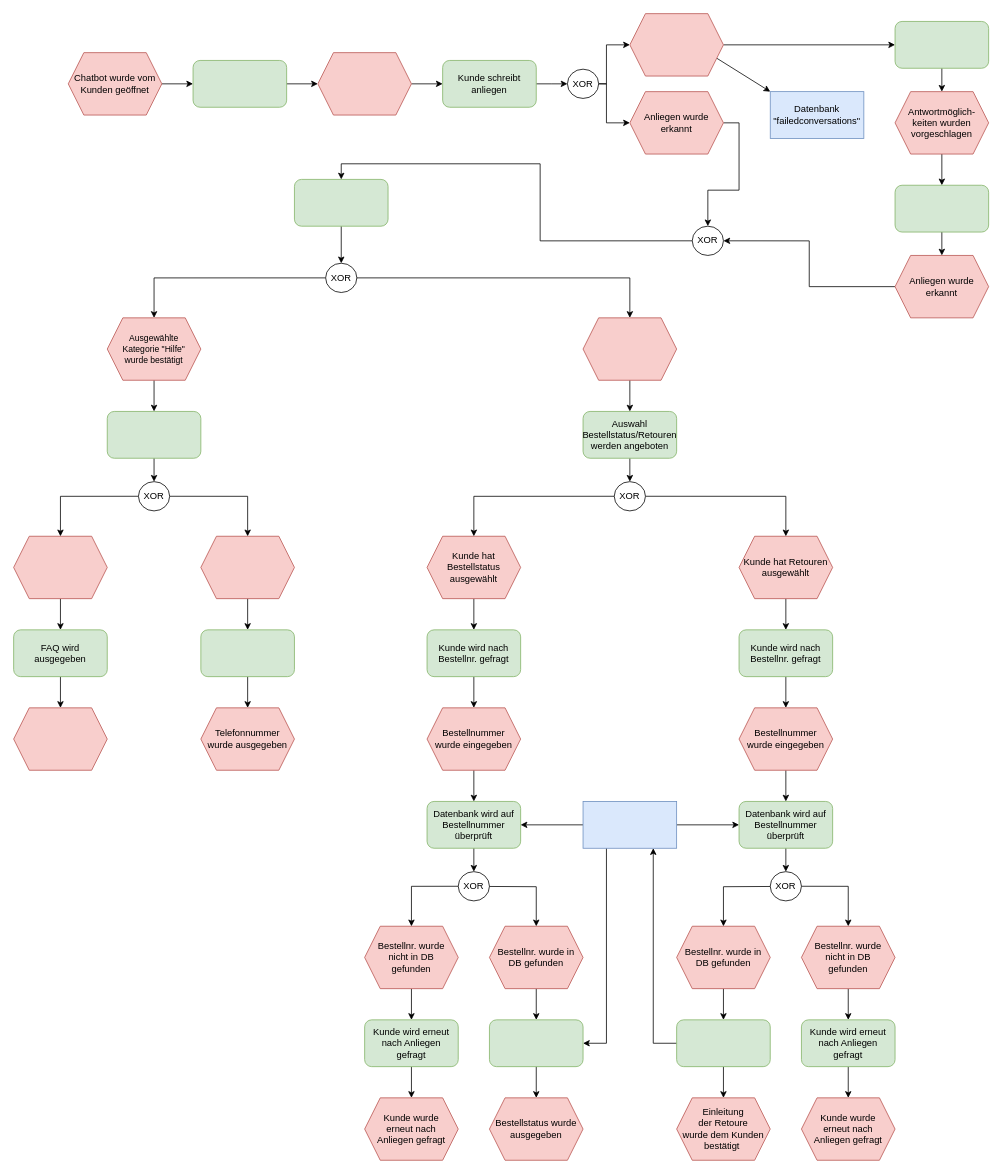
The diagram is 1002 pixels wide and 1174 high, and some of its shapes have lost their labels. The shapes that lost their labels are listed below. From the top down, each one's centre as x and y in pixels, then its label:
(x=676, y=44): Anliegen wurde nicht erkannt
(x=941, y=44): Chatbot schlägt Antwortmöglichkeiten vor
(x=239, y=83): Chatbot fragt, womit er weiterhelfen kann
(x=364, y=83): Kunde wurde nach Anliegen gefragt
(x=341, y=202): Chatbot bestätigt ausgewählte Kategorie
(x=941, y=208): Kunde wählt Antwortmöglichkeit
(x=629, y=348): Ausgewählte Kategorie "Bestellungen" wurde bestätigt
(x=153, y=434): Auswahl FAQ/Telefonservice werden angeboten
(x=60, y=567): Kunde hat FAQ ausgewählt
(x=247, y=567): Kunde hat Telefonservice ausgewählt
(x=247, y=653): Telefonnummer wird ausgegeben
(x=60, y=738): FAQ wurde ausgegeben
(x=629, y=824): Datenbank "orders"
(x=536, y=1043): Bestellstatus wird aus DB gelesen und ausgegeben
(x=723, y=1043): Retournierung wird angestoßen
